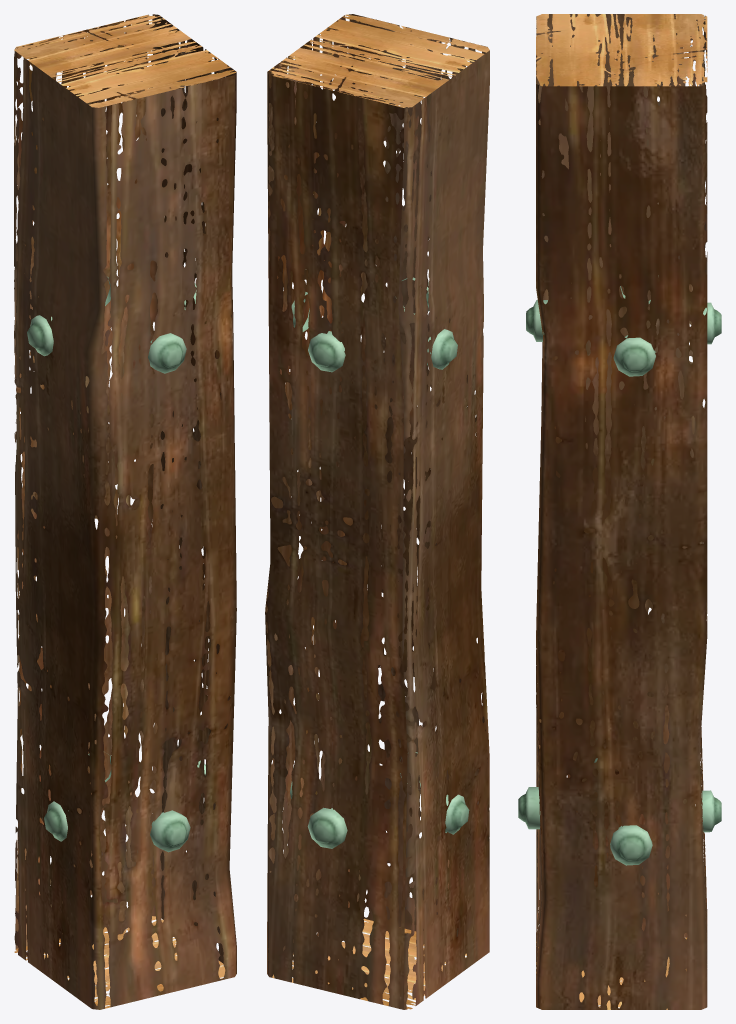
3 views of the same model, side by side, from view 1: azimuth 30°, elevation 25°; view 2: azimuth 150°, elevation 25°; view 3: azimuth 270°, elevation 25° (orthographic). The views are drawn at different scales.
Visible parts, largest first — view 1: SM_BB_T4_Beam_Thin_Med_Vertical_LOD0; view 2: SM_BB_T4_Beam_Thin_Med_Vertical_LOD0; view 3: SM_BB_T4_Beam_Thin_Med_Vertical_LOD0.
Part boxes in pixels (<box>): SM_BB_T4_Beam_Thin_Med_Vertical_LOD0: <box>14,14,236,1009</box>; SM_BB_T4_Beam_Thin_Med_Vertical_LOD0: <box>265,14,489,1009</box>; SM_BB_T4_Beam_Thin_Med_Vertical_LOD0: <box>518,14,721,1009</box>.
Bounding box in the file's own units: 0.3032 × 1.51 × 0.3017.
Materials: 2 (2 with a texture image).
